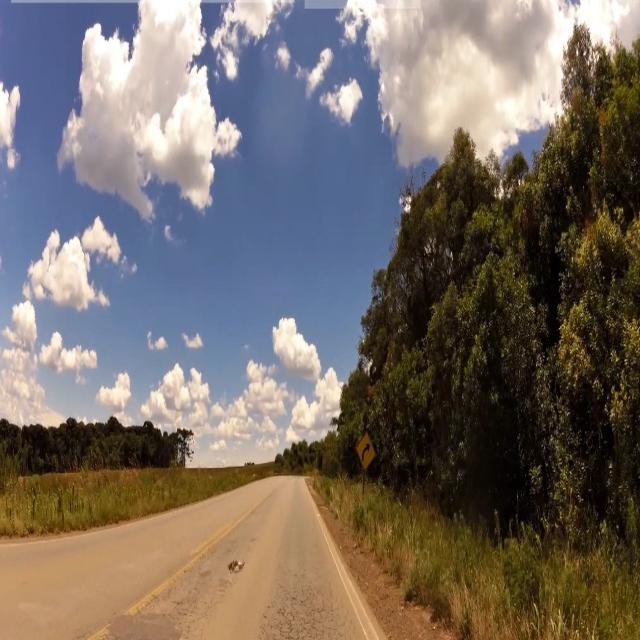A-2b: (357, 432, 376, 472)
